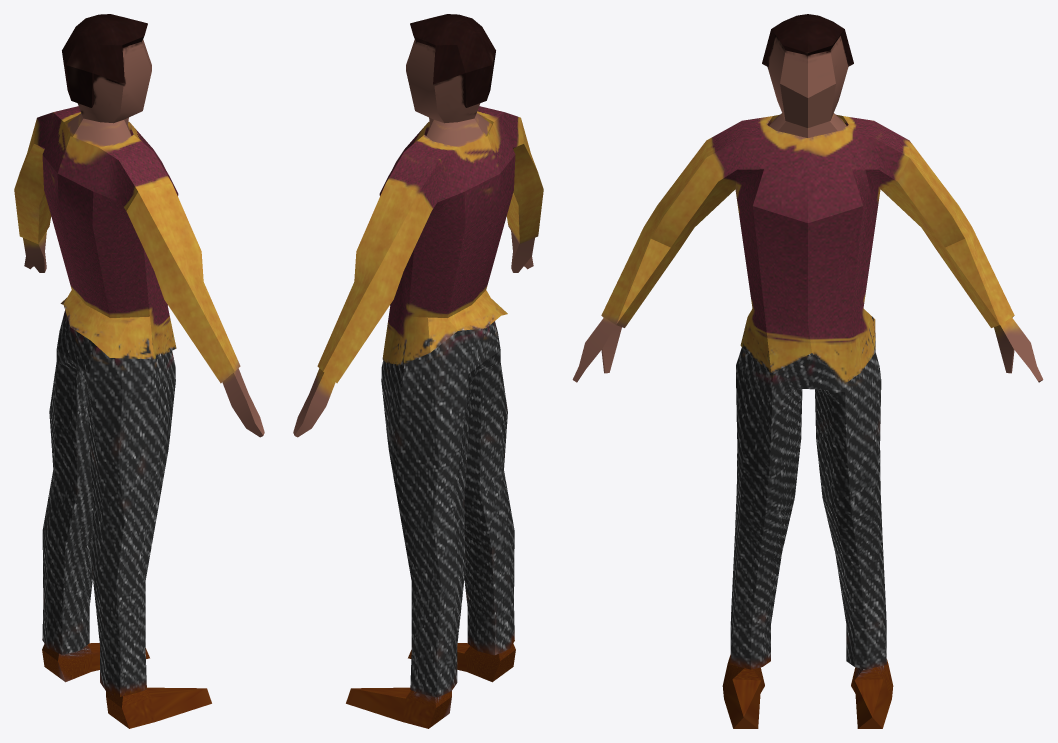
Rendered from paijal.fbx.
The picture shows the model from 3 angles, left to right: view 1: azimuth 30°, elevation 25°; view 2: azimuth 150°, elevation 25°; view 3: azimuth 270°, elevation 25°; orthographic projection.
Visible parts, largest first — view 1: Faisal; view 2: Faisal; view 3: Faisal.
Boxes of the visible parts, left/top/right/bottom form: Faisal: left=14, top=14, right=264, bottom=728; Faisal: left=293, top=14, right=543, bottom=728; Faisal: left=572, top=14, right=1043, bottom=728.
Bounding box in the file's own units: 90.69 × 497 × 314.
